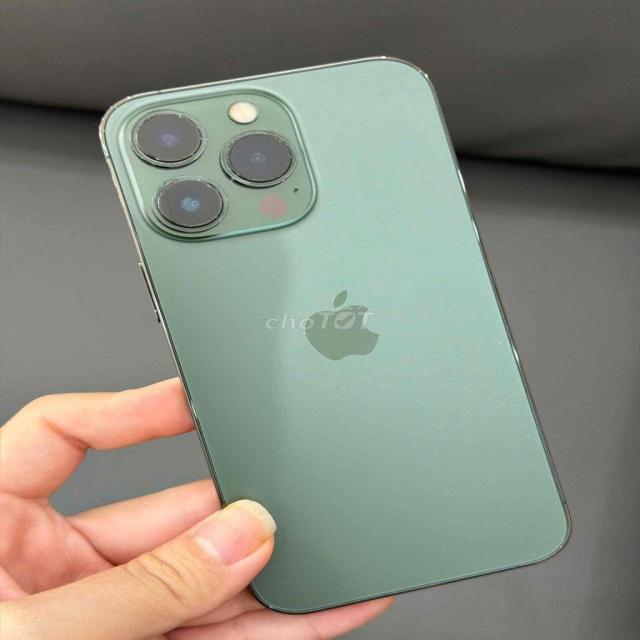gen_12_13: (87, 46, 577, 618)
